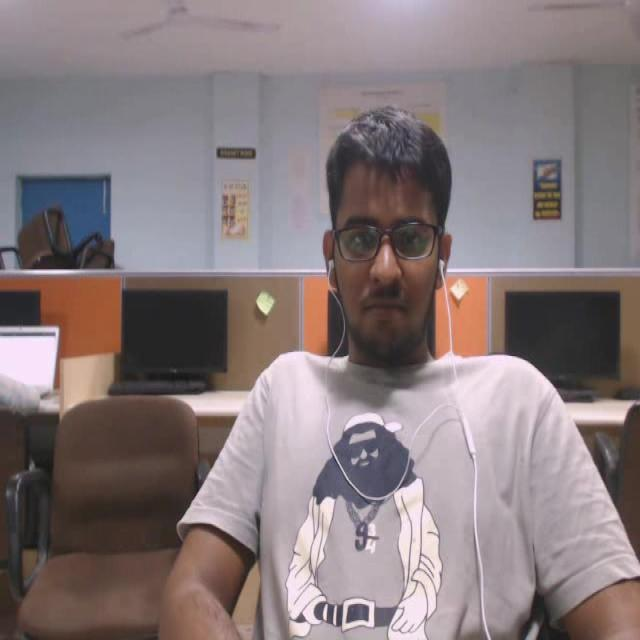Engaged: (284, 66, 508, 400)
